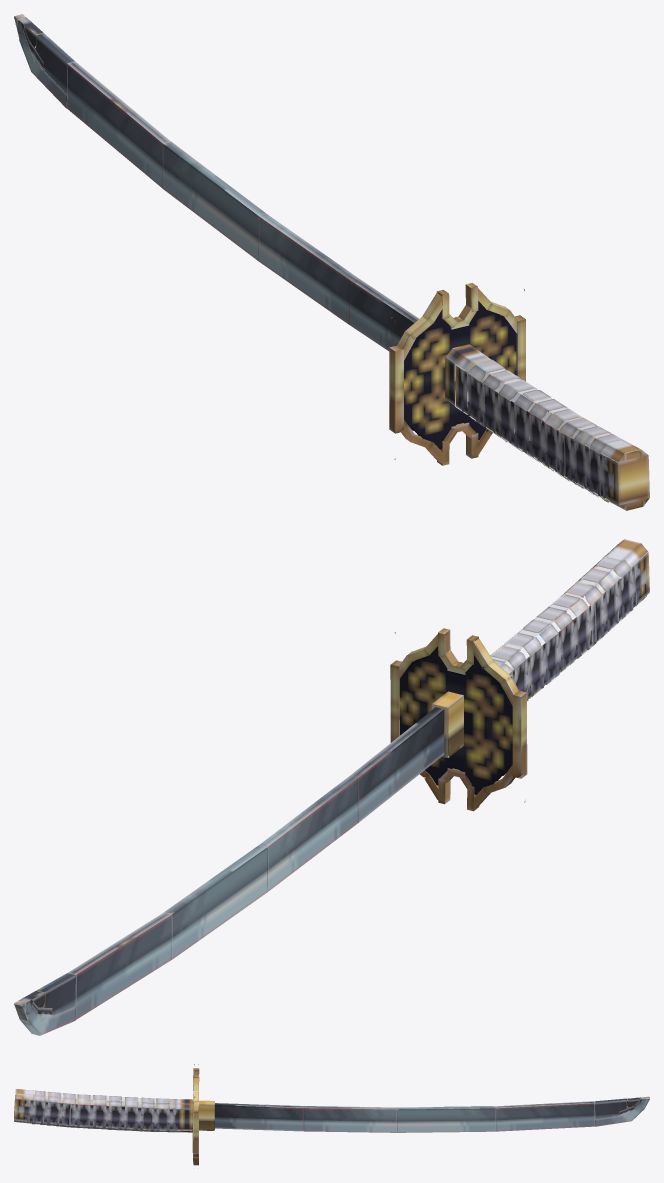
File: enhanced_katana.obj
3 views of the same model, one above another, from view 1: azimuth 30°, elevation 25°; view 2: azimuth 150°, elevation 25°; view 3: azimuth 270°, elevation 25° (orthographic). The views are drawn at different scales.
Parts seen in each view (by area): view 1: katana; view 2: katana; view 3: katana.
Part boxes in pixels (x1,y1,x2,y2): katana: (14,14,649,510); katana: (14,539,649,1035); katana: (14,1064,649,1168).
Bounding box in the file's own units: 0.352 × 0.4388 × 2.87.
